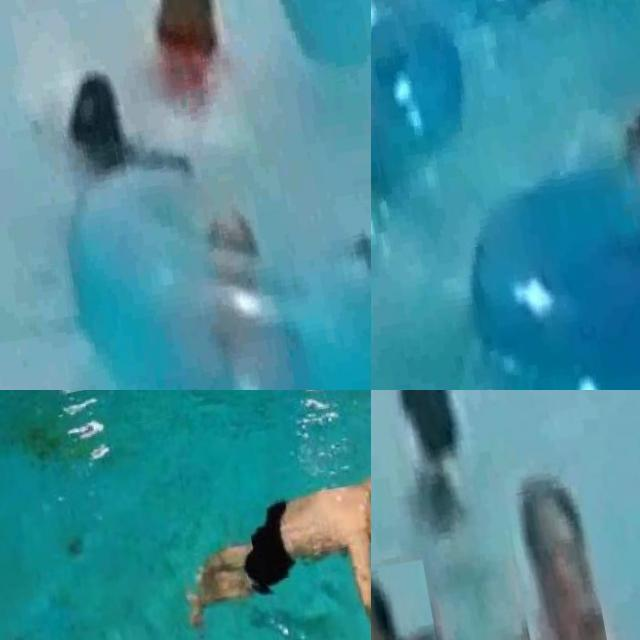drowning: (167, 458, 371, 640), (6, 16, 194, 202), (371, 390, 500, 554), (563, 37, 640, 186)
swimming: (503, 484, 610, 640), (371, 559, 444, 640)
